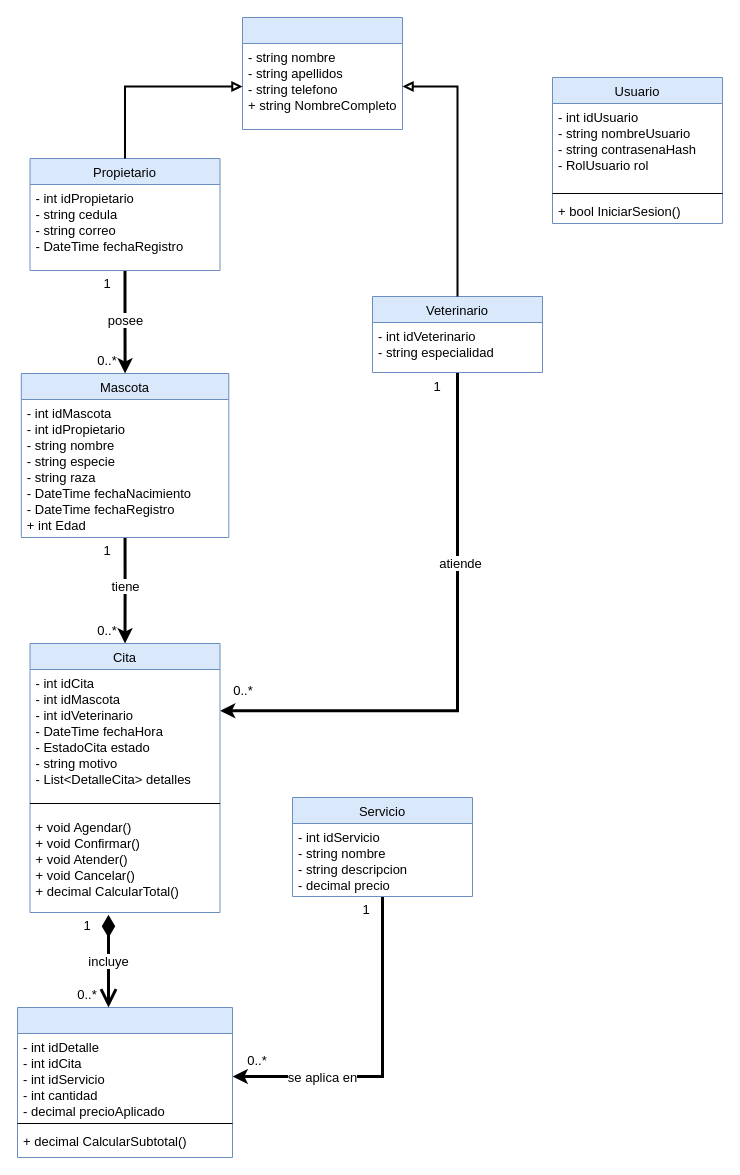
This 740x1175 diagram has some shape labels left out. The box of each missing label's shape, as (x1, y1, x2, y2) in pixels:
DetalleCita: (16, 1006, 232, 1158)
Persona: (242, 16, 402, 130)
